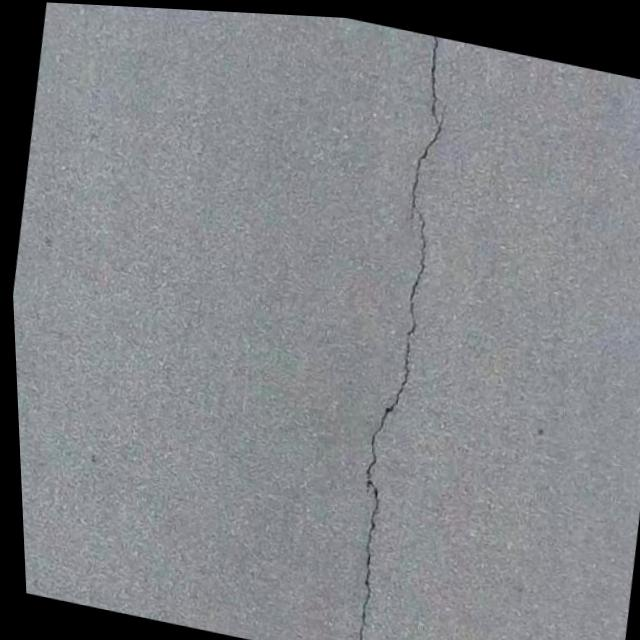Crack: (300, 26, 477, 640)
